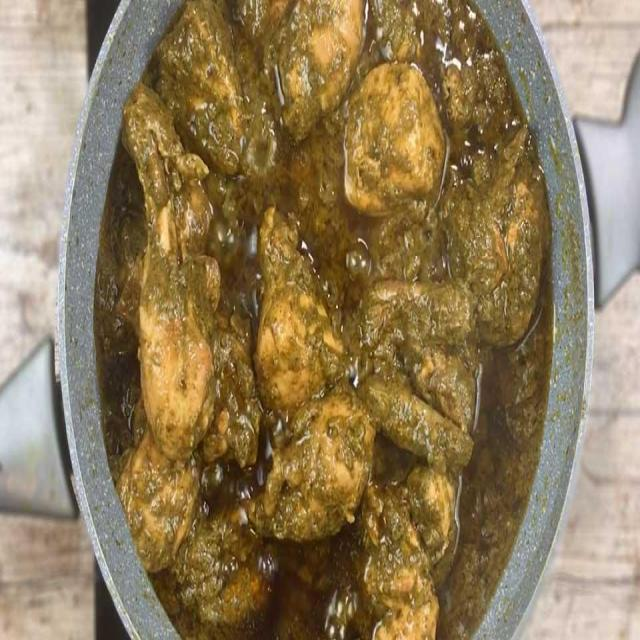chicken: (76, 7, 570, 640)
